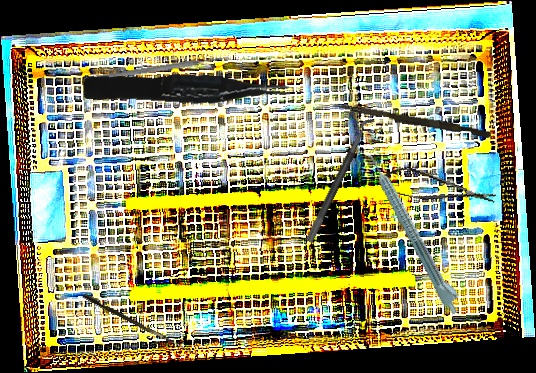Fixation Ring: (304, 115, 384, 249)
Handpiece: (364, 148, 468, 317)
Hook Surgical: (81, 293, 201, 356)
Micro Scissor: (379, 162, 498, 216)
Pusher: (331, 102, 492, 139), (96, 53, 230, 83)
Tissue Forceps: (83, 66, 291, 114)
